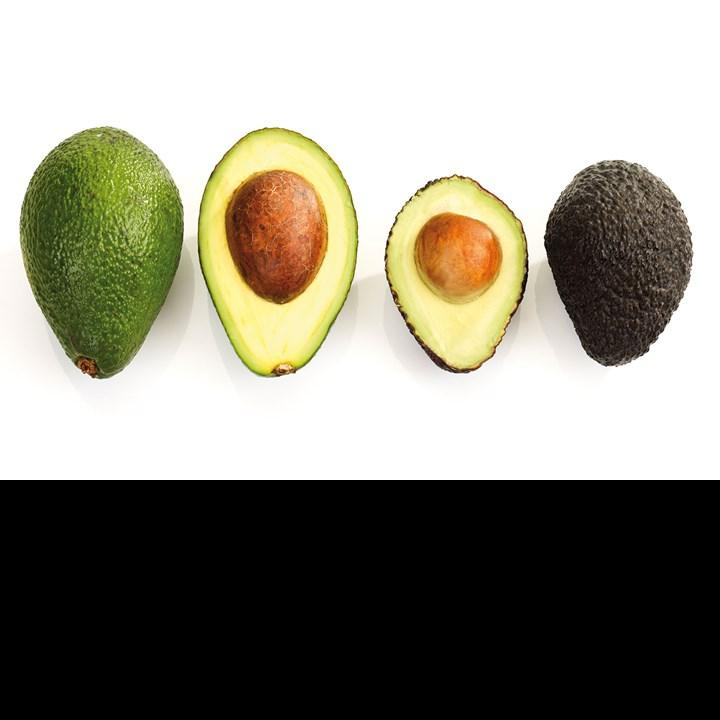ripe: (545, 160, 694, 366)
unripe: (19, 126, 184, 378)
